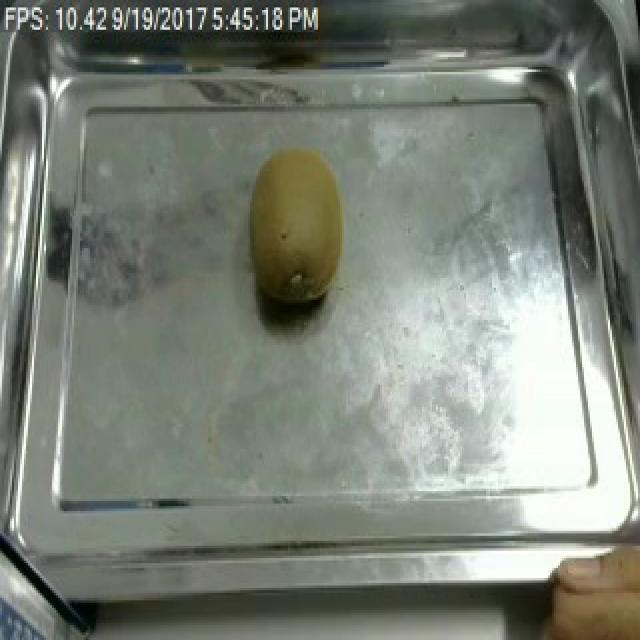Fruit: (240, 136, 356, 318), (530, 528, 640, 640)
